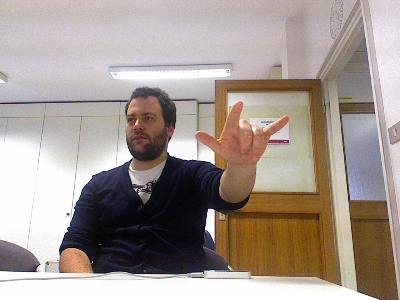我爱你: (193, 100, 290, 166)
